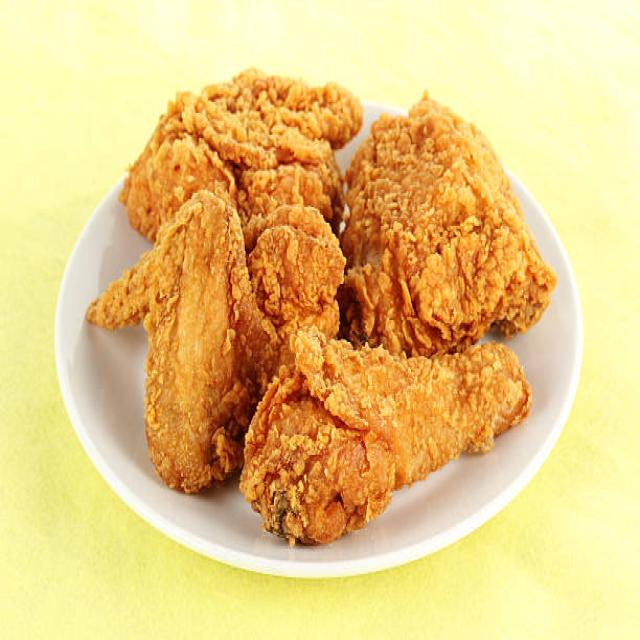Frango: (87, 62, 558, 550)
